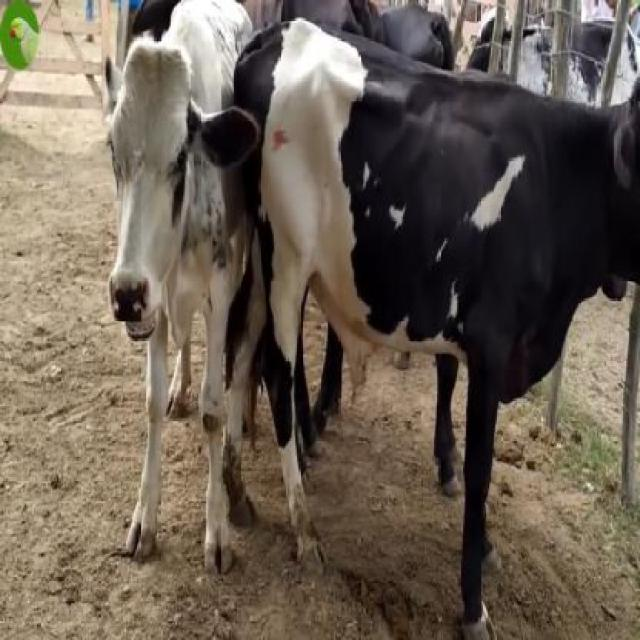Cow: (104, 0, 253, 577)
